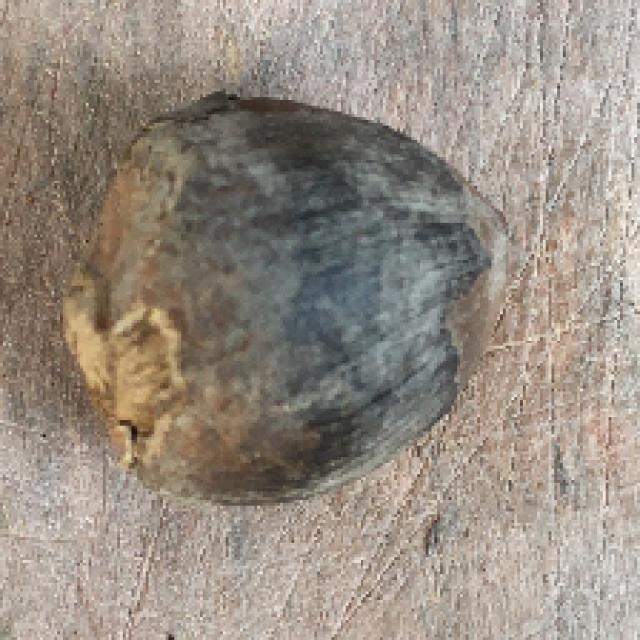damagedHazelnut: (64, 86, 516, 510)
